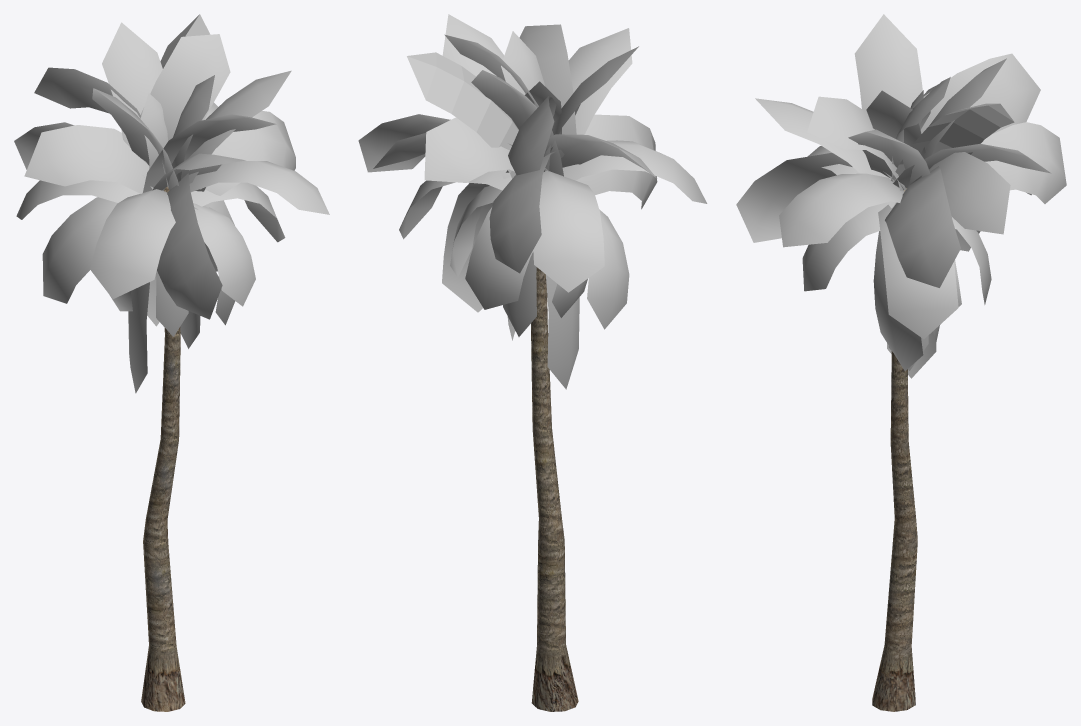
Rendered from palm4.fbx.
3 renders of one model, left to right at view 1: azimuth 30°, elevation 25°; view 2: azimuth 150°, elevation 25°; view 3: azimuth 270°, elevation 25°, orthographic. The views are drawn at different scales.
Visible parts, largest first — view 1: polySurface482; view 2: polySurface482; view 3: polySurface482.
Part boxes in pixels (x1,y1,x2,y2): polySurface482: [14, 14, 329, 711]; polySurface482: [358, 14, 707, 711]; polySurface482: [736, 14, 1066, 711].
Size of the model in its own units: 23.19 by 51.63 by 23.76.
